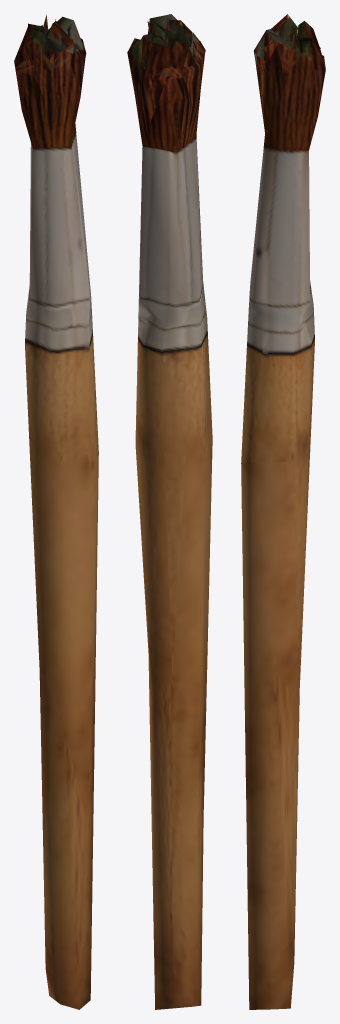
File: paintbrush+3d+model (1).fbx
3 views of the same model, side by side, from view 1: azimuth 90°, elevation 25°; view 2: azimuth 150°, elevation 25°; view 3: azimuth 270°, elevation 25° (orthographic).
Visible parts, largest first — view 1: tripo_node_49887abf; view 2: tripo_node_49887abf; view 3: tripo_node_49887abf.
Part boxes in pixels (x1,y1,x2,y2): tripo_node_49887abf: (14, 14, 98, 1009); tripo_node_49887abf: (127, 14, 212, 1009); tripo_node_49887abf: (241, 14, 325, 1009).
Size of the model in its own units: 0.0655 by 0.9873 by 0.0769.
1 material, 1 textured.
